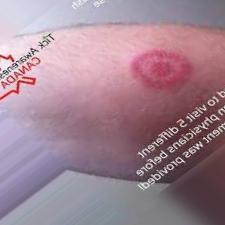Tick: (132, 46, 193, 90)
